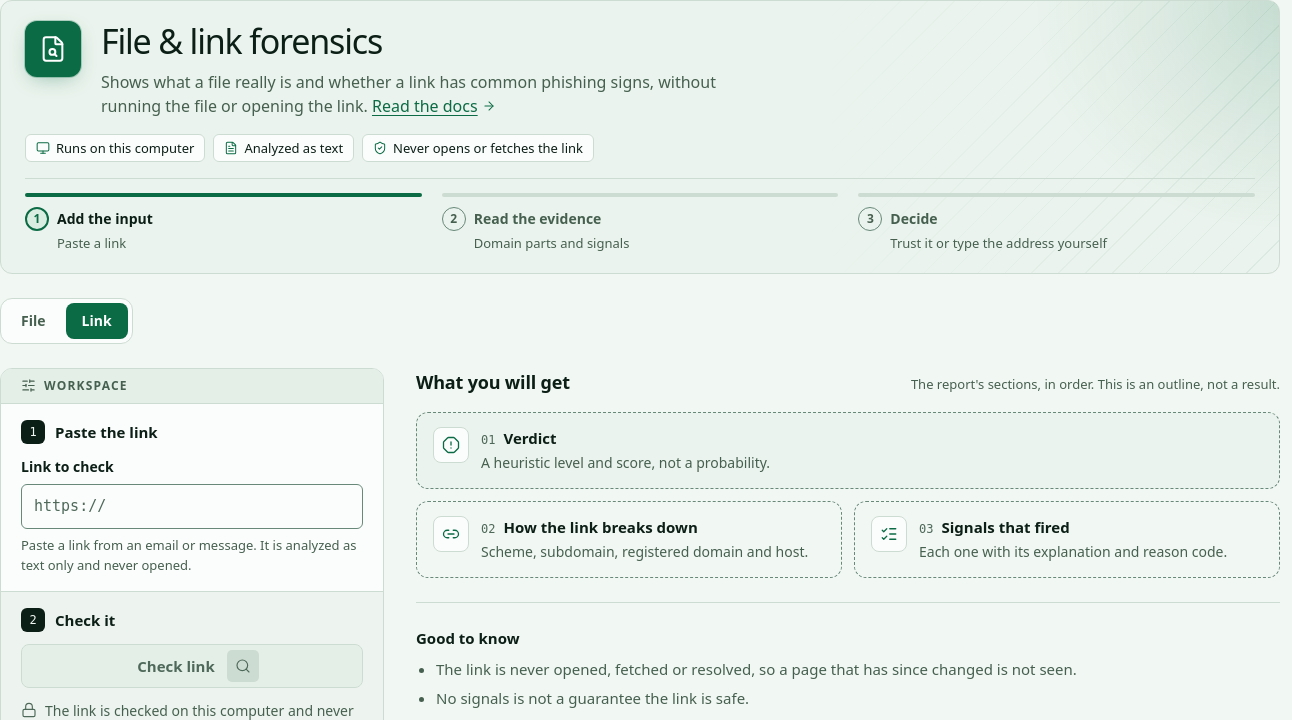
Test: file and link tabs › keeps the link text after an error
The width and height of the screenshot is (1292, 720).
Type "nonsense" into the field labelled "Link to check".
click(192, 507); type("nonsense")  # box x1=21 y1=484 x2=363 y2=529
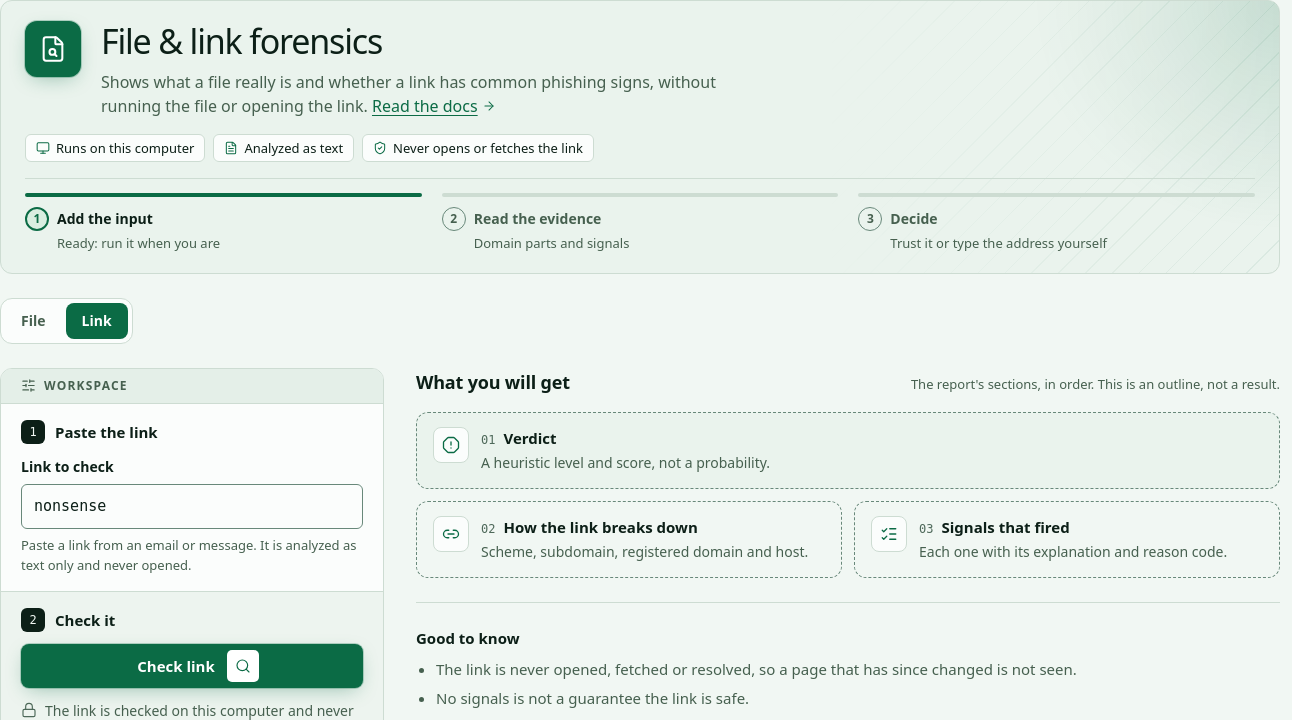
Click the button "Check link".
click(192, 666)  # box x1=21 y1=644 x2=363 y2=688
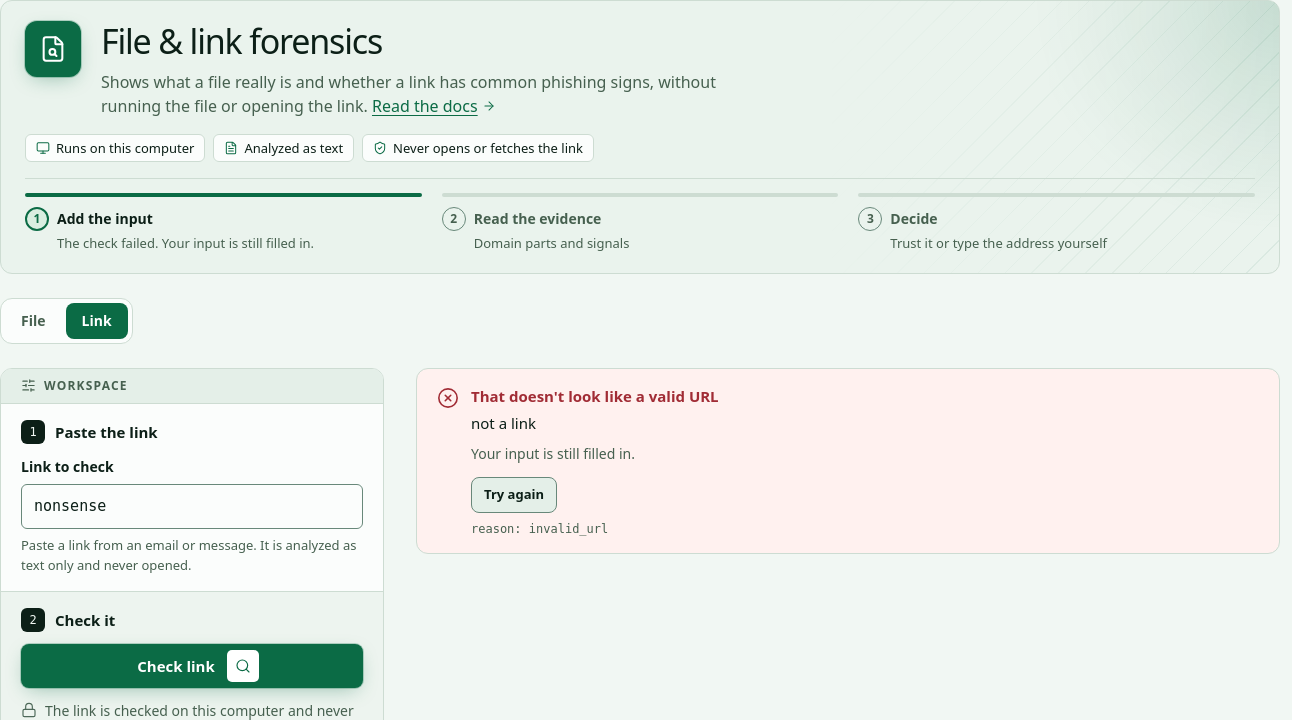
Check: the message shows "not a link", box x1=471 y1=413 x2=536 y2=433
